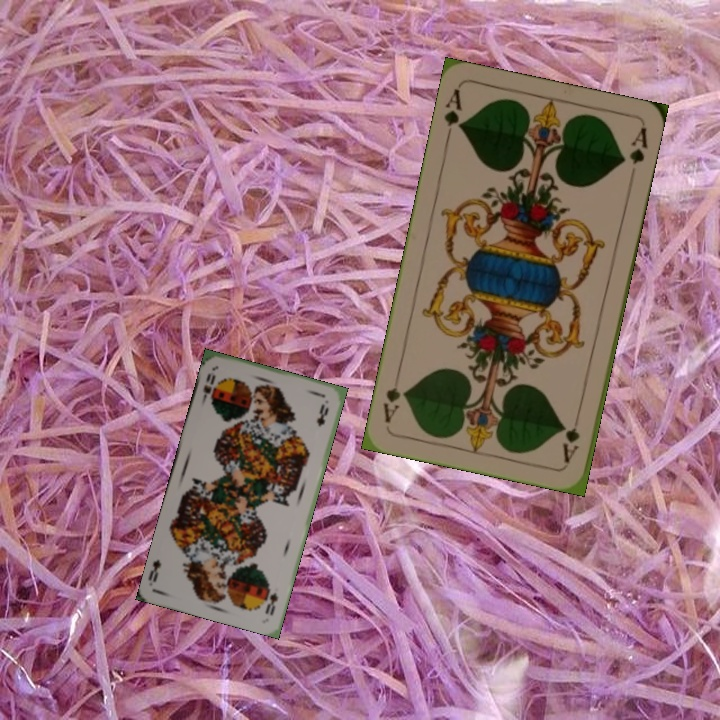GA: (439, 84, 466, 144), (558, 423, 583, 465)
SO: (198, 369, 218, 406), (261, 588, 281, 618)
